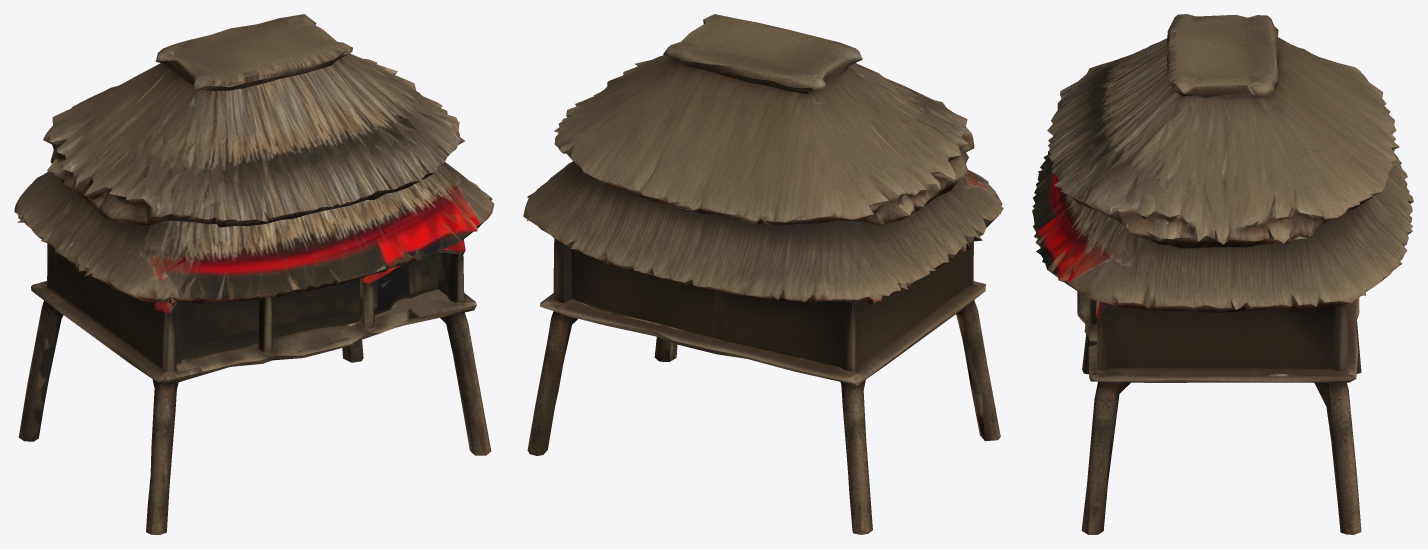
The model's file is guaranies_almacen_madera.glb.
The picture shows the model from 3 angles, left to right: view 1: azimuth 30°, elevation 25°; view 2: azimuth 150°, elevation 25°; view 3: azimuth 270°, elevation 25°; orthographic projection.
Visible parts, largest first — view 1: geometry_0; view 2: geometry_0; view 3: geometry_0.
Part boxes in pixels (x1,y1,x2,y2): geometry_0: [14, 14, 494, 534]; geometry_0: [523, 14, 1003, 534]; geometry_0: [1032, 14, 1413, 534].
Size of the model in its own units: 1.4 by 1.37 by 1.18.
Materials: 1 (1 with a texture image).
